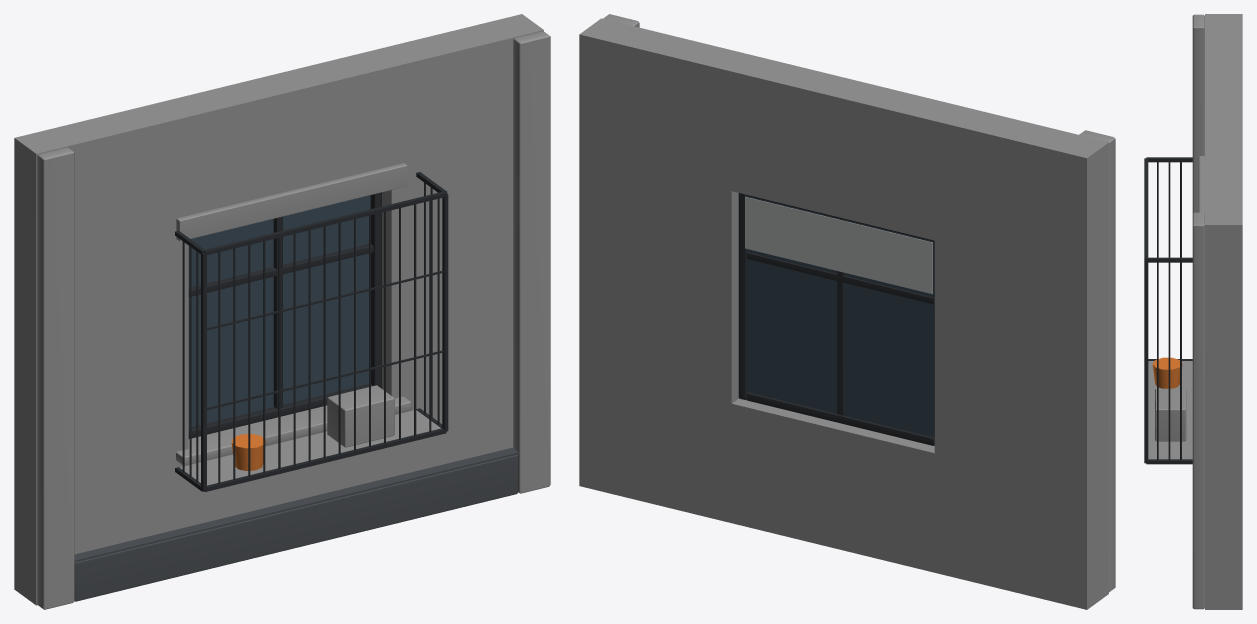
Rendered from Building_Facade_Plaster_Window_Cage.fbx.
3 views of the same model, side by side, from view 1: azimuth 30°, elevation 25°; view 2: azimuth 150°, elevation 25°; view 3: azimuth 270°, elevation 25° (orthographic). The views are drawn at different scales.
Visible parts, largest first — view 1: Building_Facade_Plaster_Window_Cage_LOD0; view 2: Building_Facade_Plaster_Window_Cage_LOD0; view 3: Building_Facade_Plaster_Window_Cage_LOD0.
Boxes of the visible parts, x1,y1,x2,y2 form: Building_Facade_Plaster_Window_Cage_LOD0: [14, 14, 550, 609]; Building_Facade_Plaster_Window_Cage_LOD0: [579, 14, 1115, 609]; Building_Facade_Plaster_Window_Cage_LOD0: [1144, 14, 1242, 609].
Size of what is drawn, in the model's own units: 4 by 3.4 by 0.785.
